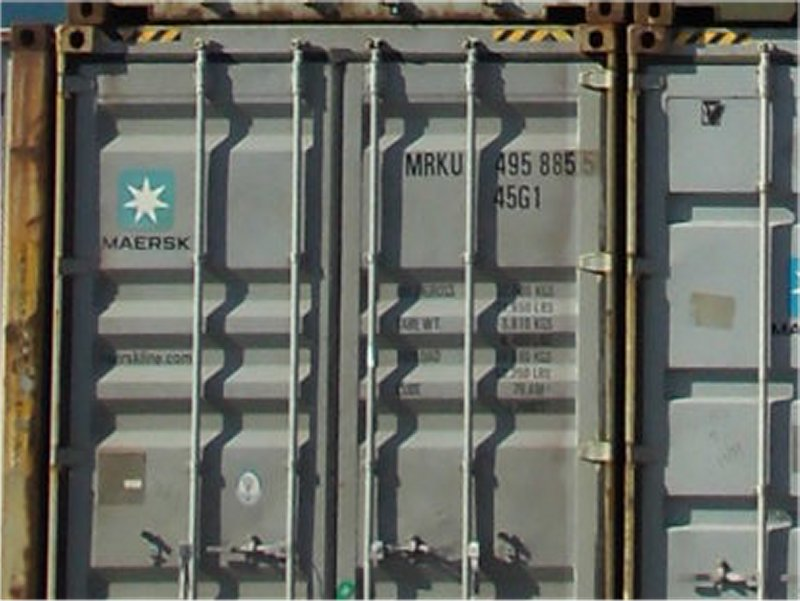container_door: (55, 26, 628, 600)
